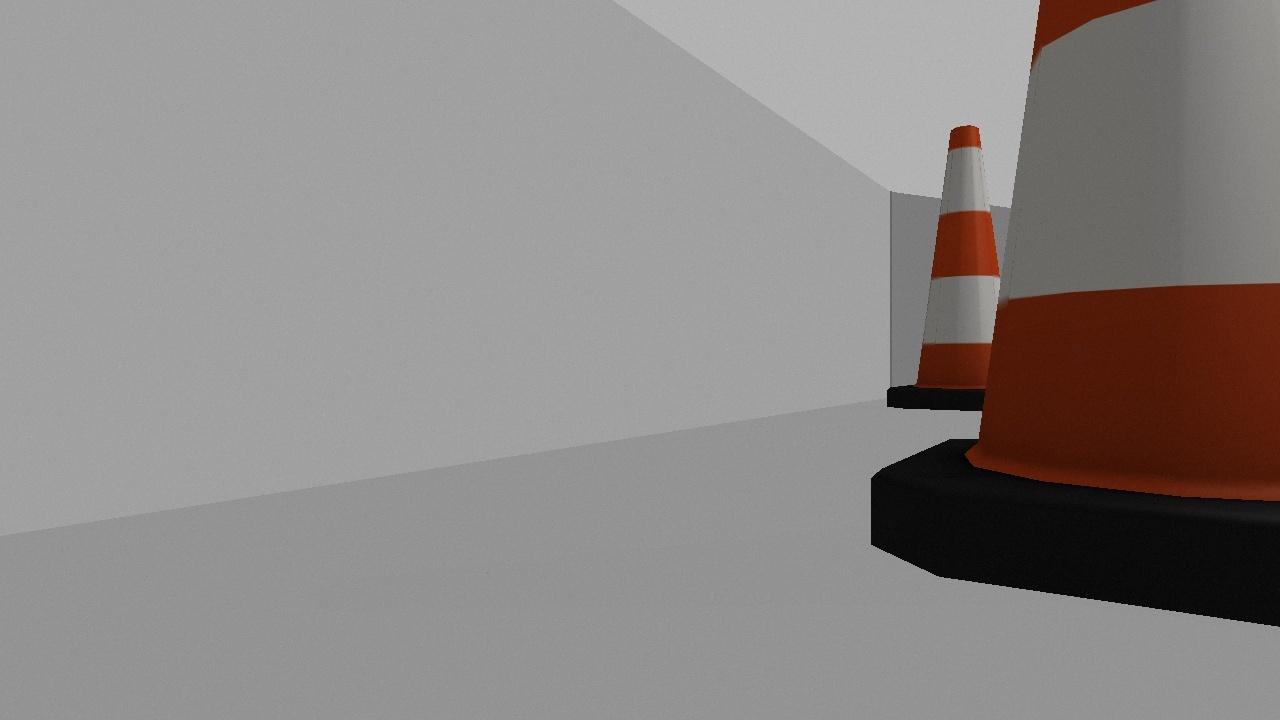cone_barrel: (870, 0, 1279, 628), (885, 122, 1018, 414)
